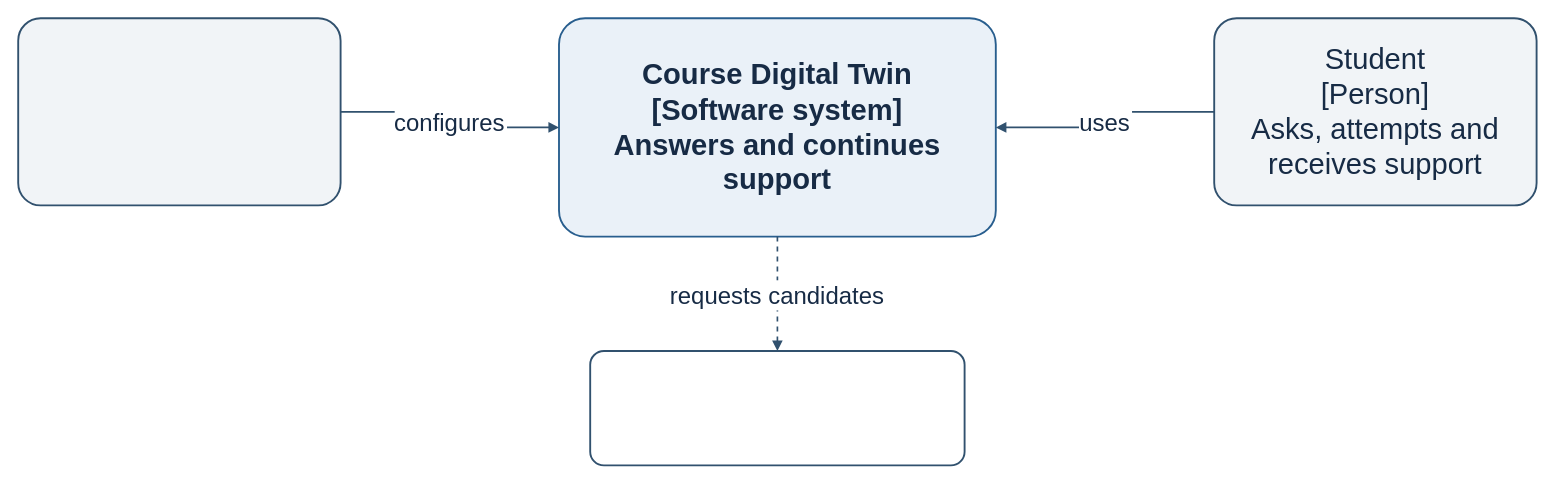
Image size: 1556x485. Some labels were removed from this diagram. The centre of each missing label's shape, as x and y in pixels:
"Generation provider [External software system]" goes at (777,408).
"Professor [Person] Publishes materials and policy" goes at (179,111).
